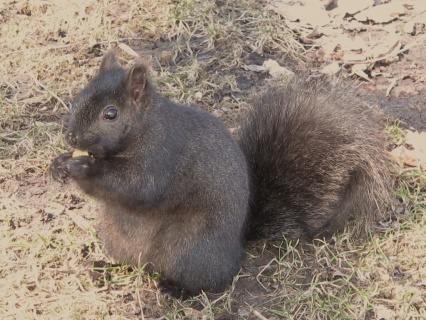Squirrel: (48, 50, 395, 301)
